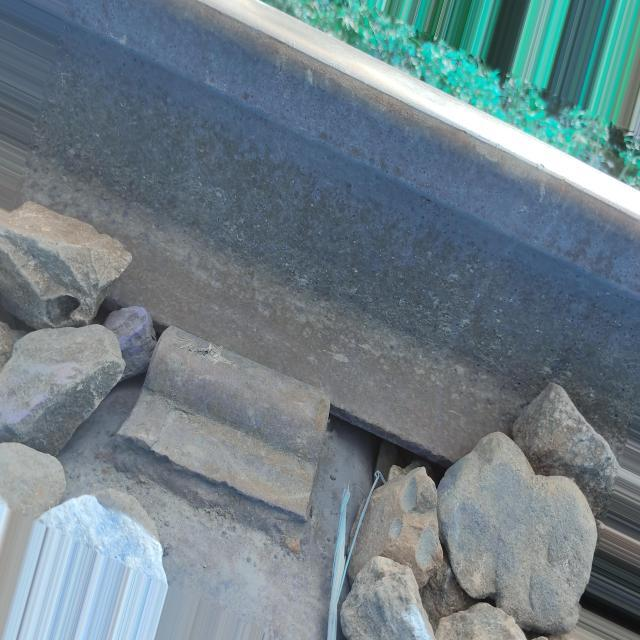Missing Fastener: (82, 297, 353, 568)
